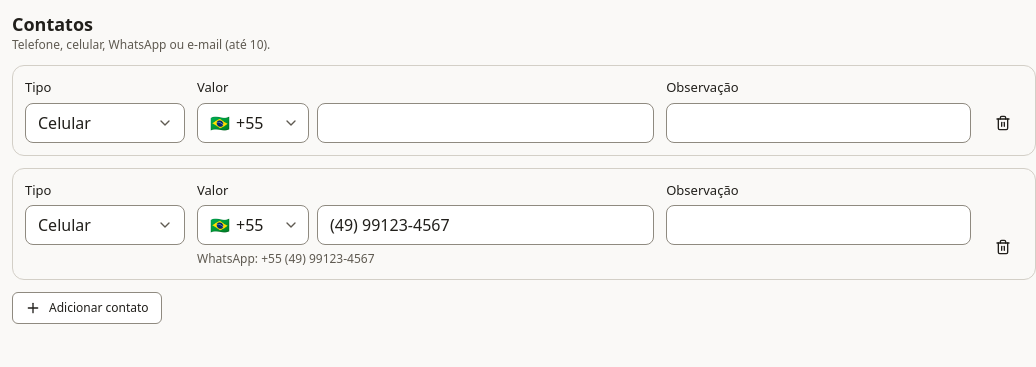
Test: ListaDeContatos — o campo de telefone depois da rodada 2 do gate › não deve deixar a voz falando do contato que foi removido
Type "55 49912-3456" into the 1st field labelled "Valor". click: [486, 123]
box: [317,103,654,143]
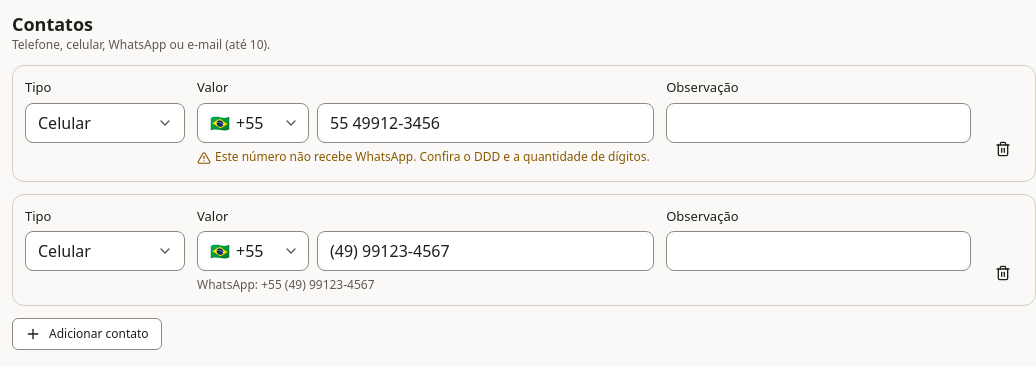
Click the button named "Remover contato 1". click: [1003, 149]
box: [983,133,1023,165]
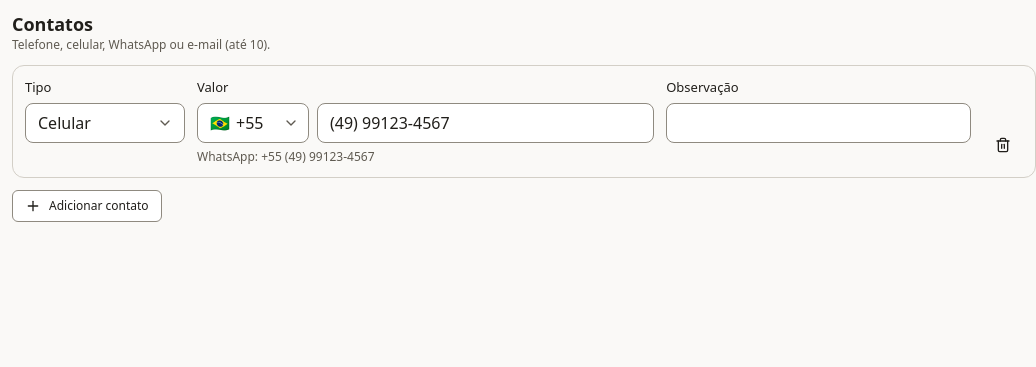
Expected: the field labelled "Valor" holds "(49) 99123-4567", [317,103,654,143]
